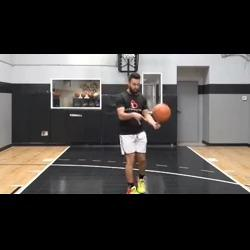BasketBall: (150, 101, 172, 124)
